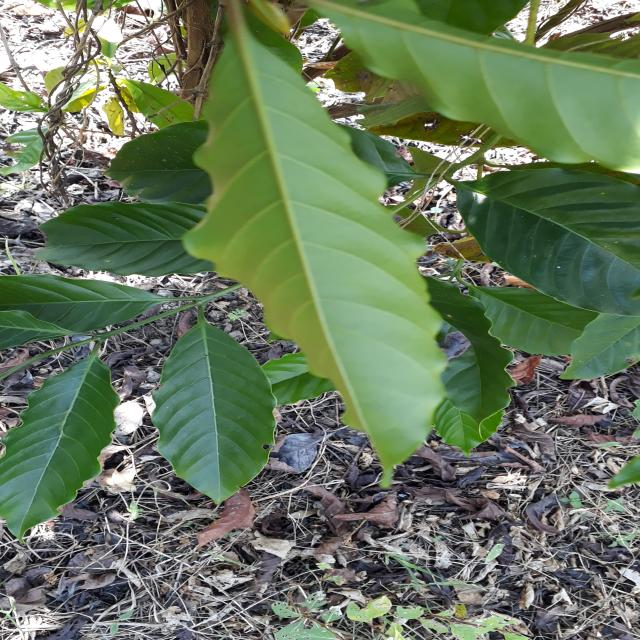Sanas: (182, 0, 450, 488)
